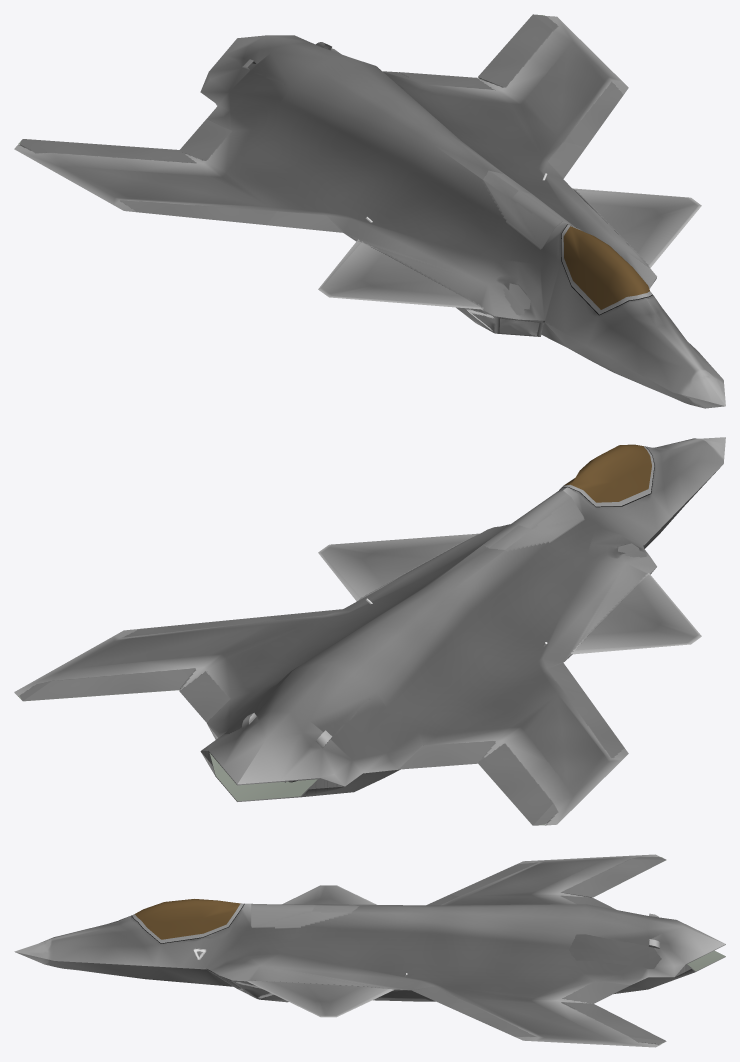
File: x37_unityTest3.fbx
3 views of the same model, one above another, from view 1: azimuth 30°, elevation 25°; view 2: azimuth 150°, elevation 25°; view 3: azimuth 270°, elevation 25° (orthographic). The views are drawn at different scales.
Parts seen in each view (by area): view 1: Cube, R_Flap, L_Flap, Cube.012, Cube.035, Cube.020, Cube.004, LT_Aileron2, LT_Aileron1, Cube.034, Cube.024, Cube.023 (+1 smaller); view 2: Cube, R_Flap, L_Flap, Cube.012, Cube.020, Cube.035, Cube.034, LT_Aileron2, LT_Aileron1, Cube.023, Cube.024, Cube.003 (+1 smaller); view 3: Cube, Cube.012, L_Flap, Cube.020, Cube.004, R_Flap, Cube.003, Cube.023, Cube.024, Cube.035, LT_Aileron1, LT_Aileron2.
Part boxes in pixels (box(x1,y1,x2,y2)): Cube: box(14, 16, 725, 408); R_Flap: box(318, 241, 482, 309); L_Flap: box(572, 188, 701, 268); Cube.012: box(561, 224, 653, 314); Cube.035: box(120, 200, 342, 232); Cube.020: box(483, 171, 570, 247); Cube.004: box(548, 80, 623, 178); LT_Aileron2: box(478, 44, 530, 87); LT_Aileron1: box(507, 14, 557, 56); Cube.034: box(179, 119, 230, 160); Cube.024: box(20, 139, 118, 157); Cube.023: box(96, 144, 195, 162); Cube: box(14, 437, 725, 825); R_Flap: box(572, 574, 701, 654); L_Flap: box(318, 533, 479, 601); Cube.012: box(562, 444, 654, 506); Cube.020: box(483, 491, 583, 549); Cube.035: box(548, 663, 624, 757); Cube.034: box(399, 741, 495, 769); LT_Aileron2: box(96, 668, 195, 695); LT_Aileron1: box(19, 675, 119, 701); Cube.023: box(478, 744, 530, 795); Cube.024: box(507, 775, 557, 825); Cube.003: box(179, 670, 230, 722); Cube: box(14, 854, 725, 1047); Cube.012: box(132, 899, 243, 943); L_Flap: box(247, 980, 394, 1017); Cube.020: box(251, 903, 357, 926); Cube.004: box(412, 986, 537, 1037); R_Flap: box(282, 885, 376, 904); Cube.003: box(561, 981, 629, 1003); Cube.023: box(561, 874, 631, 897); Cube.024: box(599, 857, 666, 877); Cube.035: box(426, 862, 537, 905); LT_Aileron1: box(599, 1021, 666, 1044); LT_Aileron2: box(561, 1002, 631, 1023).
Size of what is drawn, in the model's own units: 1205 by 241 by 1879.
